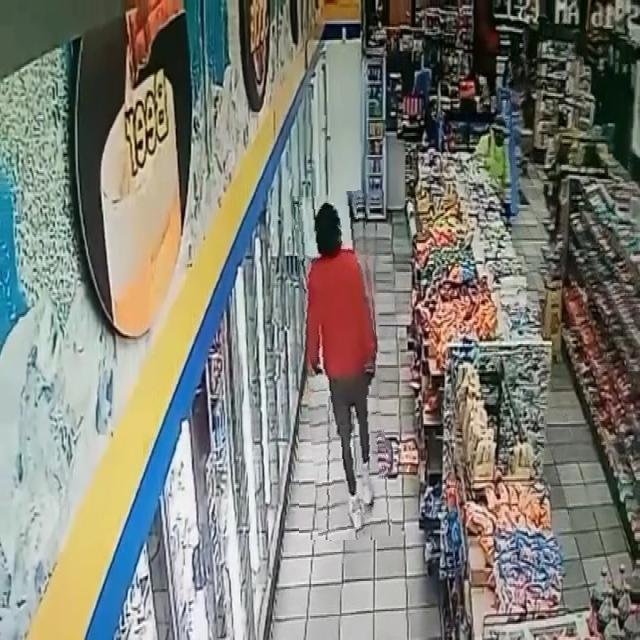normal: (299, 191, 385, 540)
